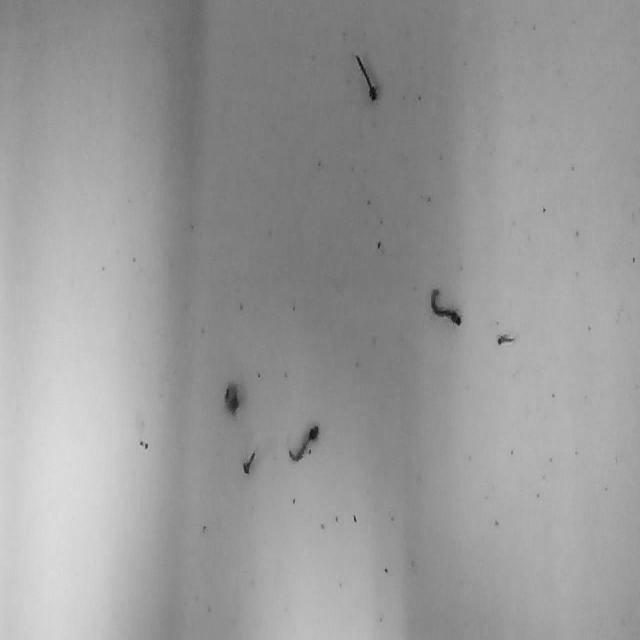larvas: (430, 288, 461, 326), (354, 54, 378, 102), (288, 424, 318, 462), (224, 382, 238, 414), (242, 450, 255, 473), (497, 334, 516, 344)
